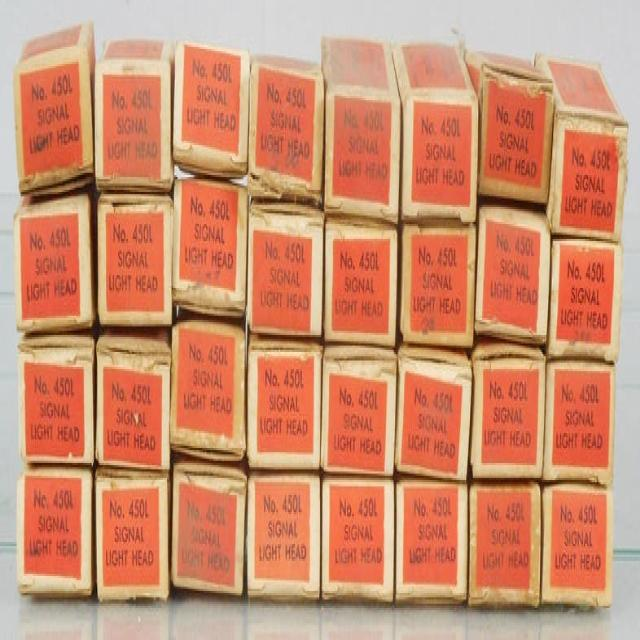box: (534, 58, 628, 246), (389, 40, 477, 221), (459, 47, 555, 207), (321, 38, 401, 223), (12, 19, 95, 197), (94, 38, 173, 194), (15, 184, 95, 332), (248, 52, 324, 206), (173, 39, 250, 190), (93, 328, 171, 472), (469, 338, 547, 481), (169, 318, 248, 459), (475, 200, 552, 344), (172, 178, 250, 319), (171, 460, 248, 599), (96, 192, 173, 330), (19, 330, 96, 467), (248, 199, 325, 335), (320, 342, 398, 476), (394, 351, 472, 483), (18, 468, 93, 605), (94, 468, 171, 601), (325, 213, 399, 349), (248, 335, 321, 468), (400, 222, 477, 348), (247, 474, 320, 604), (547, 237, 621, 365), (321, 479, 395, 605), (395, 479, 468, 604), (541, 485, 613, 609), (467, 486, 540, 608), (543, 360, 614, 482)
